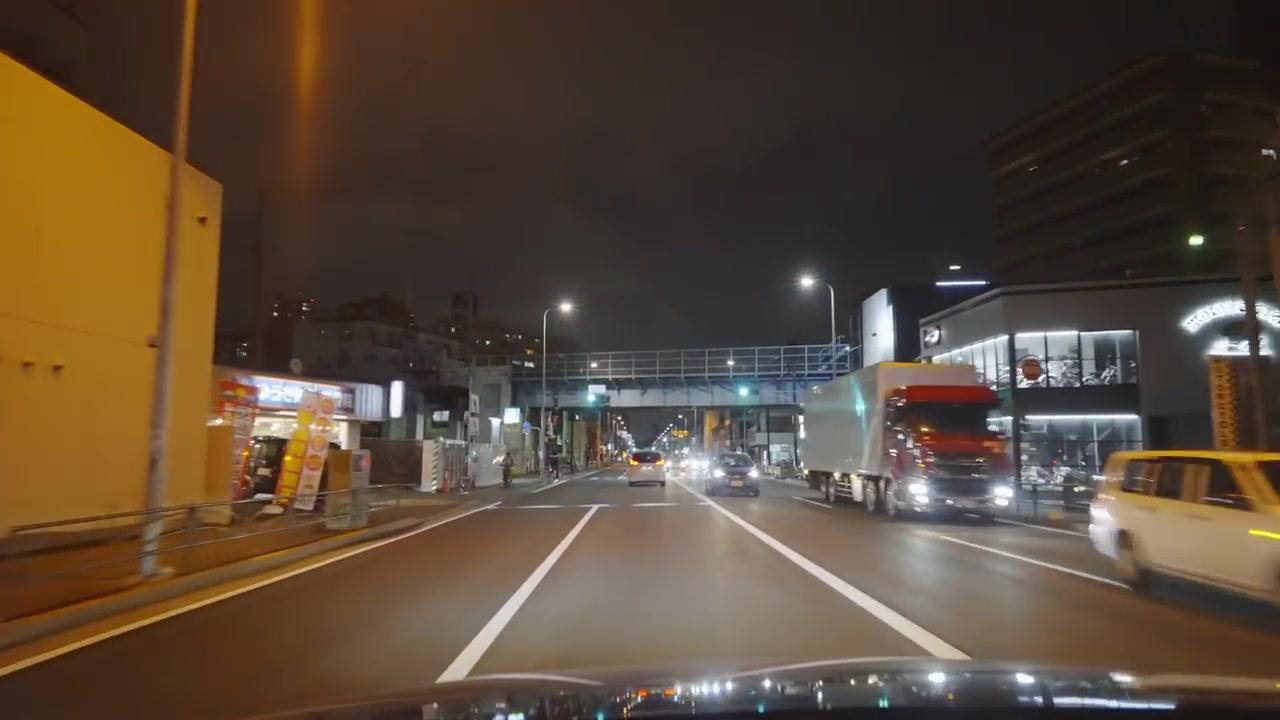car: (1088, 447, 1279, 609), (704, 451, 761, 497), (623, 448, 668, 487)
person: (498, 450, 514, 489)
traffic light: (733, 374, 752, 400)
truck: (798, 361, 1015, 521)
